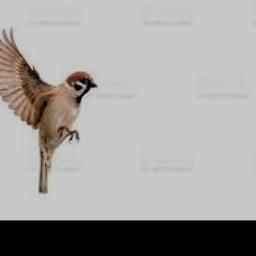Sparrow: (0, 26, 98, 194)
